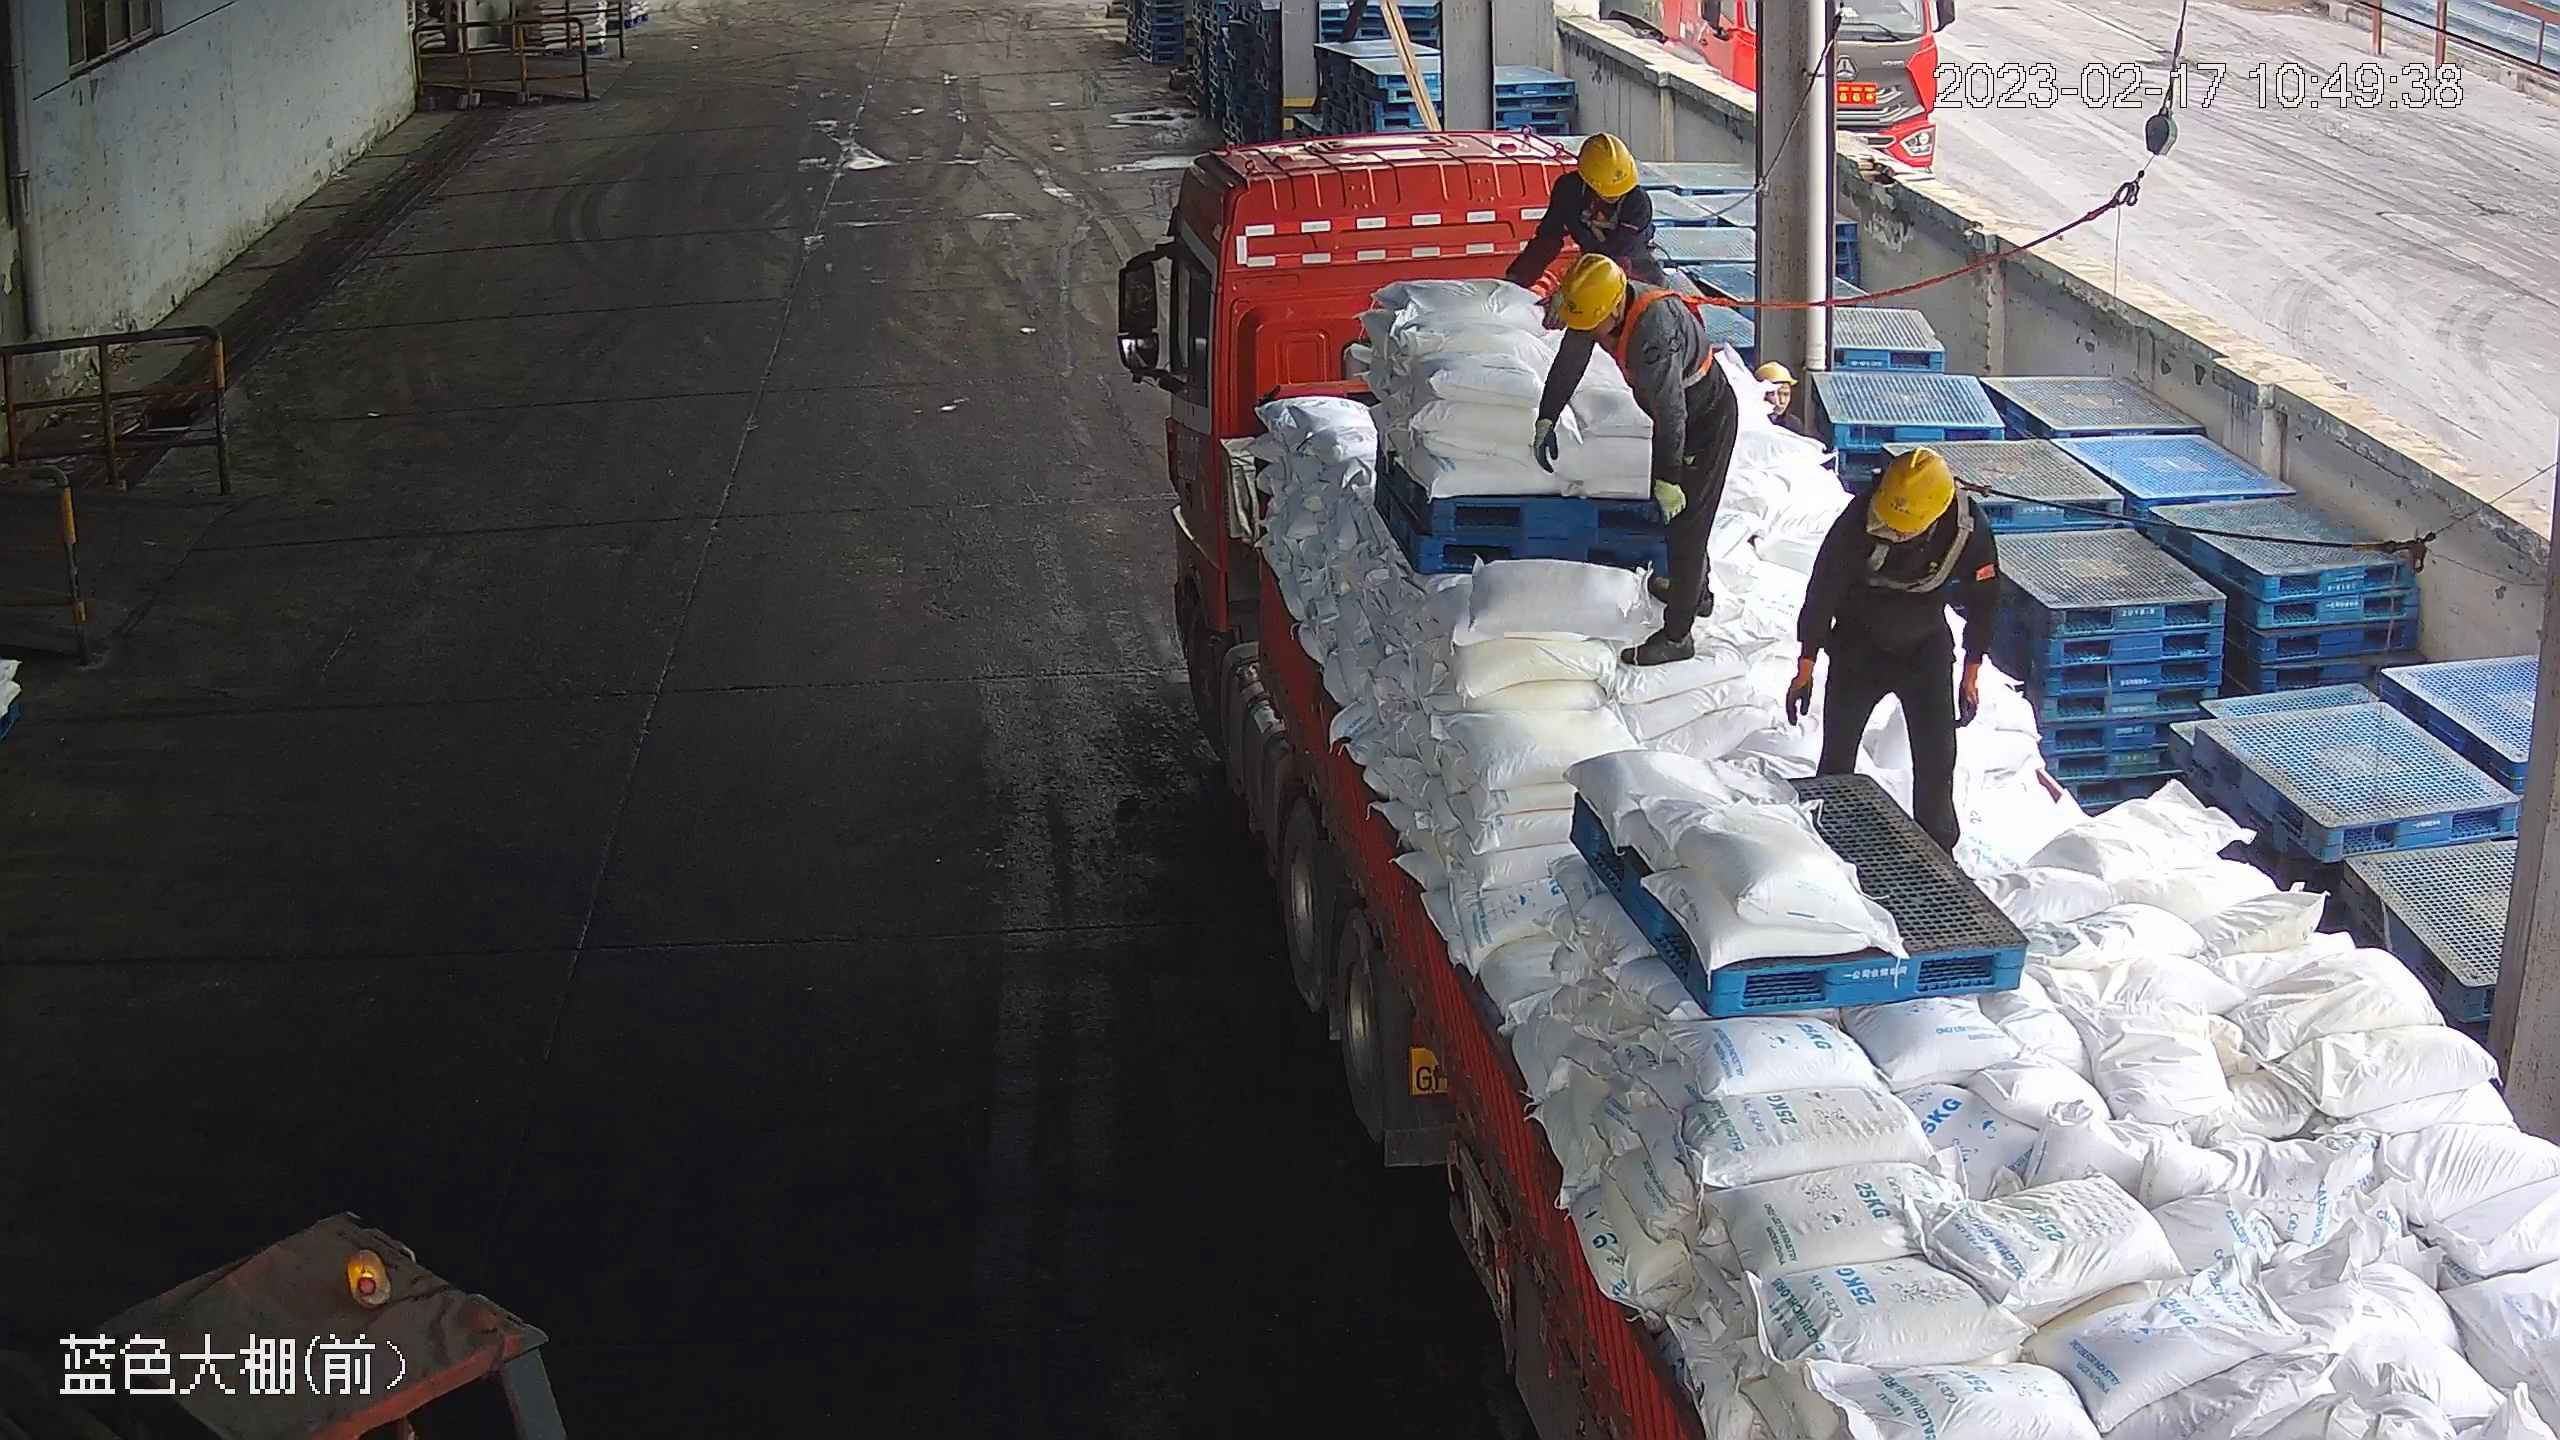belt: (1599, 281, 1726, 388), (1864, 518, 1968, 592), (1575, 176, 1633, 232)
head: (1786, 440, 2005, 860), (1823, 444, 1993, 567), (1552, 257, 1708, 363), (1548, 129, 1654, 223)
helmet: (1871, 444, 1955, 534), (1553, 254, 1626, 330), (1574, 130, 1639, 199)
people: (1789, 442, 2004, 859), (1534, 256, 1743, 669)
truck: (1125, 130, 2558, 1434)
